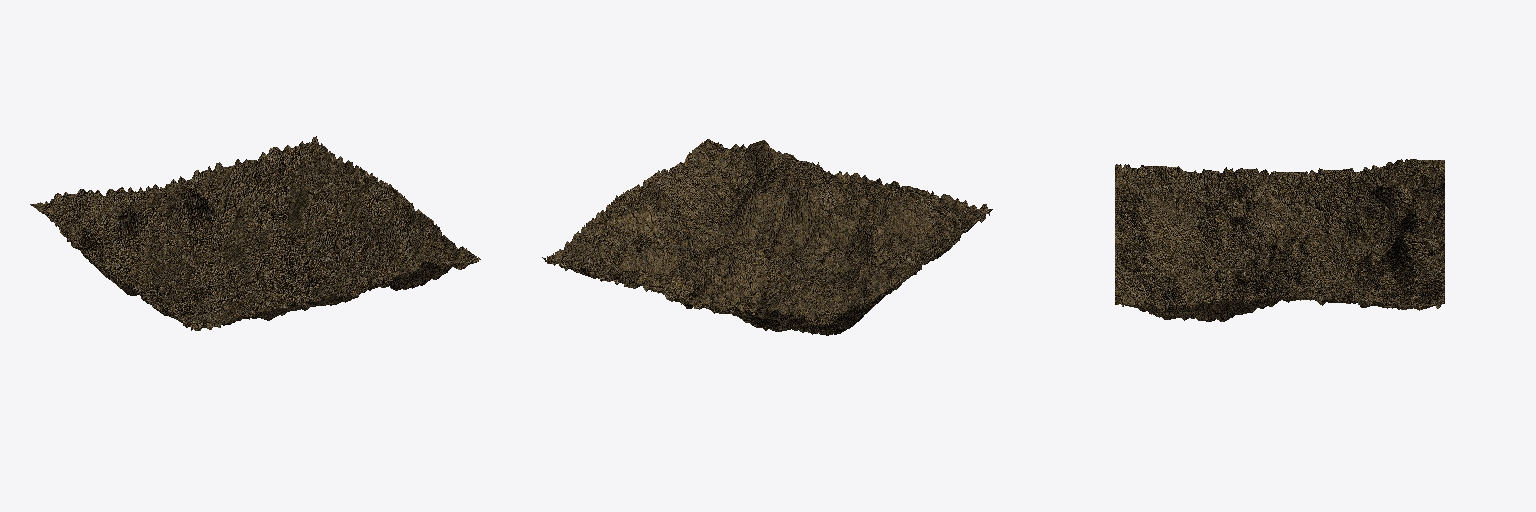
The picture shows the model from 3 angles: view 1: azimuth 30°, elevation 25°; view 2: azimuth 150°, elevation 25°; view 3: azimuth 270°, elevation 25°; orthographic projection.
Parts seen in each view (by area): view 1: pPlane1; view 2: pPlane1; view 3: pPlane1.
Boxes of the visible parts, <box> form: pPlane1: <box>30,136,480,330</box>; pPlane1: <box>542,139,992,335</box>; pPlane1: <box>1115,159,1444,321</box>.
Bounding box in the file's own units: 22.09 × 5.1 × 22.09.
1 materials, 1 textured.